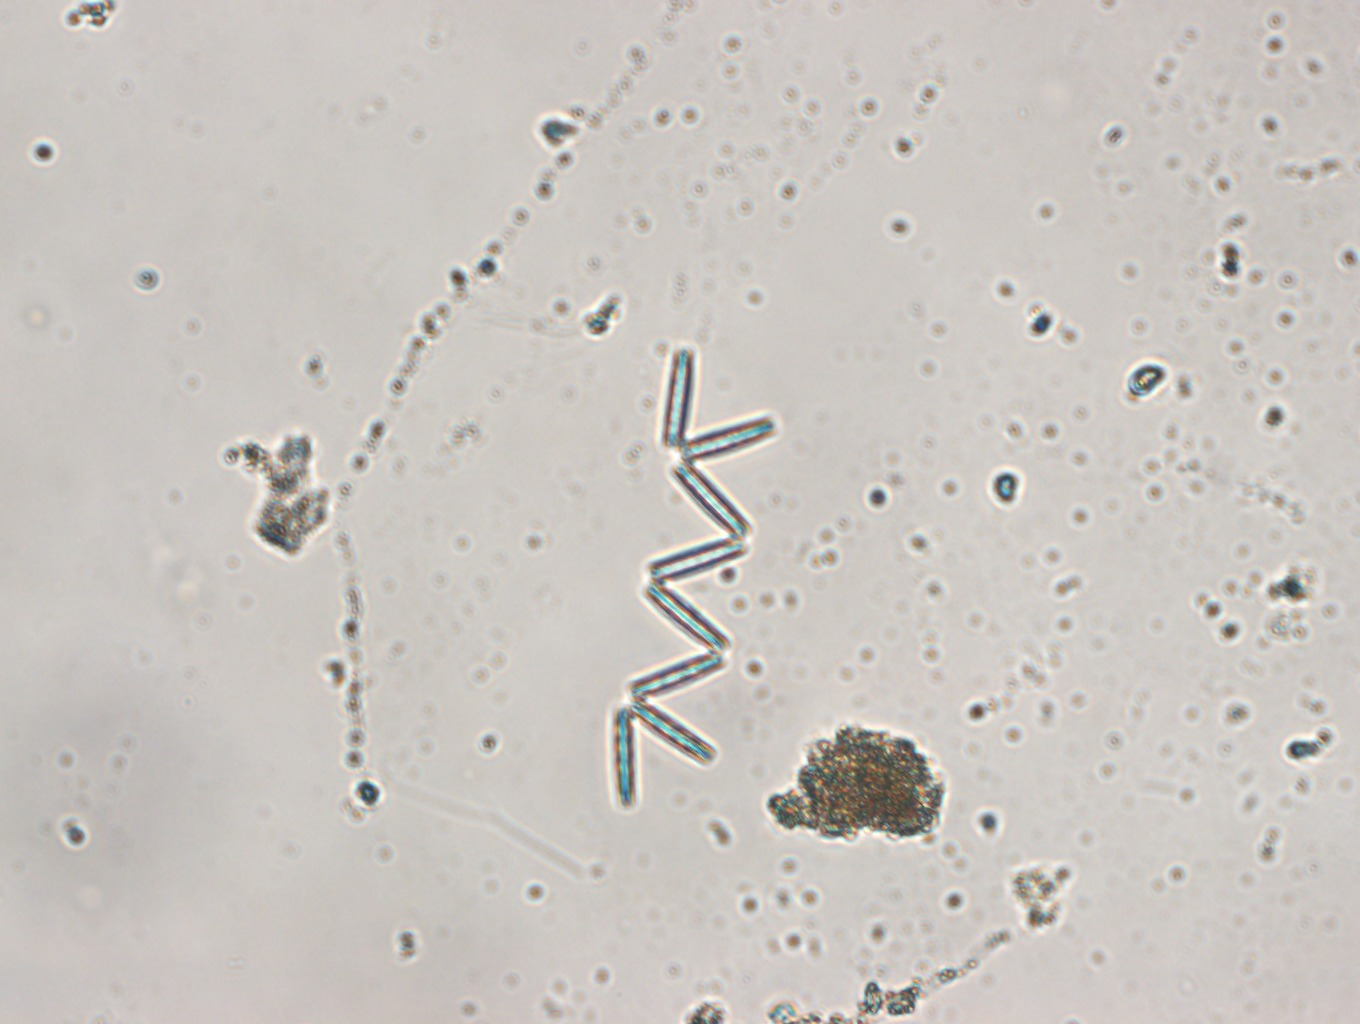thalassionema nitzschioides: (606, 345, 774, 803)
